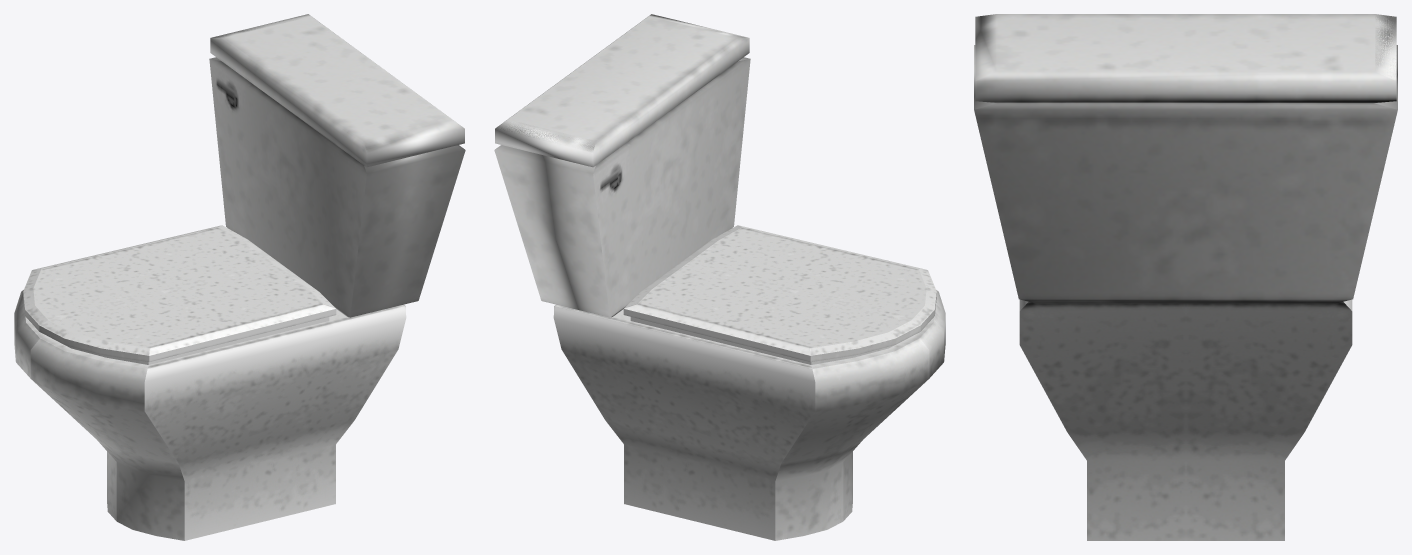
File: Toilet.fbx
3 views of the same model, side by side, from view 1: azimuth 30°, elevation 25°; view 2: azimuth 150°, elevation 25°; view 3: azimuth 270°, elevation 25° (orthographic). The views are drawn at different scales.
Visible parts, largest first — view 1: polySurface10; view 2: polySurface10; view 3: polySurface10.
Part boxes in pixels (x1,y1,x2,y2): polySurface10: [14, 14, 465, 540]; polySurface10: [494, 14, 945, 540]; polySurface10: [974, 14, 1397, 540].
Size of the model in its own units: 124 by 129 by 95.03.
